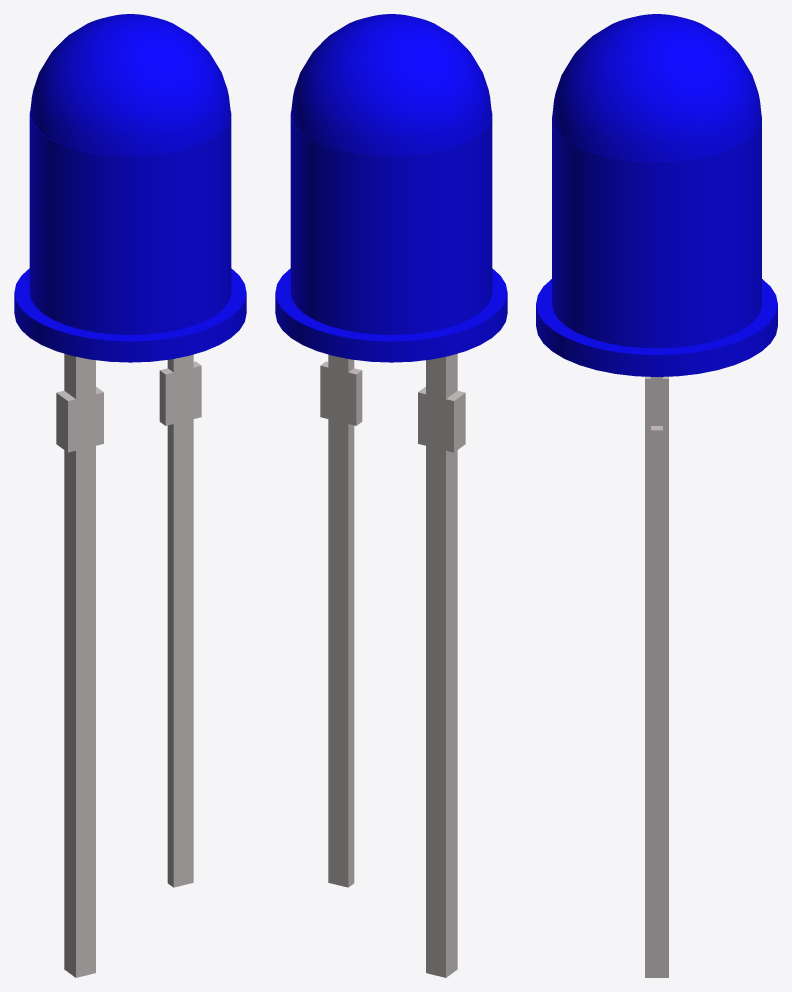
Rendered from uploads_files_4411672_L.E.D.fbx.
3 renders of one model, left to right at view 1: azimuth 30°, elevation 25°; view 2: azimuth 150°, elevation 25°; view 3: azimuth 270°, elevation 25°, orthographic. The views are drawn at different scales.
Visible parts, largest first — view 1: Flat_Spot, Exposy_Case, Anode, Cathode; view 2: Flat_Spot, Exposy_Case, Anode, Cathode; view 3: Flat_Spot, Exposy_Case, Anode, Cathode.
Boxes of the visible parts, <box> form: Flat_Spot: <box>14,109,246,362</box>; Exposy_Case: <box>30,14,230,155</box>; Anode: <box>56,353,103,977</box>; Cathode: <box>159,354,201,887</box>; Flat_Spot: <box>275,109,507,362</box>; Exposy_Case: <box>291,14,491,155</box>; Anode: <box>418,353,465,977</box>; Cathode: <box>320,354,362,887</box>; Flat_Spot: <box>536,117,777,376</box>; Exposy_Case: <box>552,14,761,161</box>; Anode: <box>645,376,668,977</box>; Cathode: <box>651,377,662,962</box>.
Size of the model in its own units: 200 by 889 by 200.
